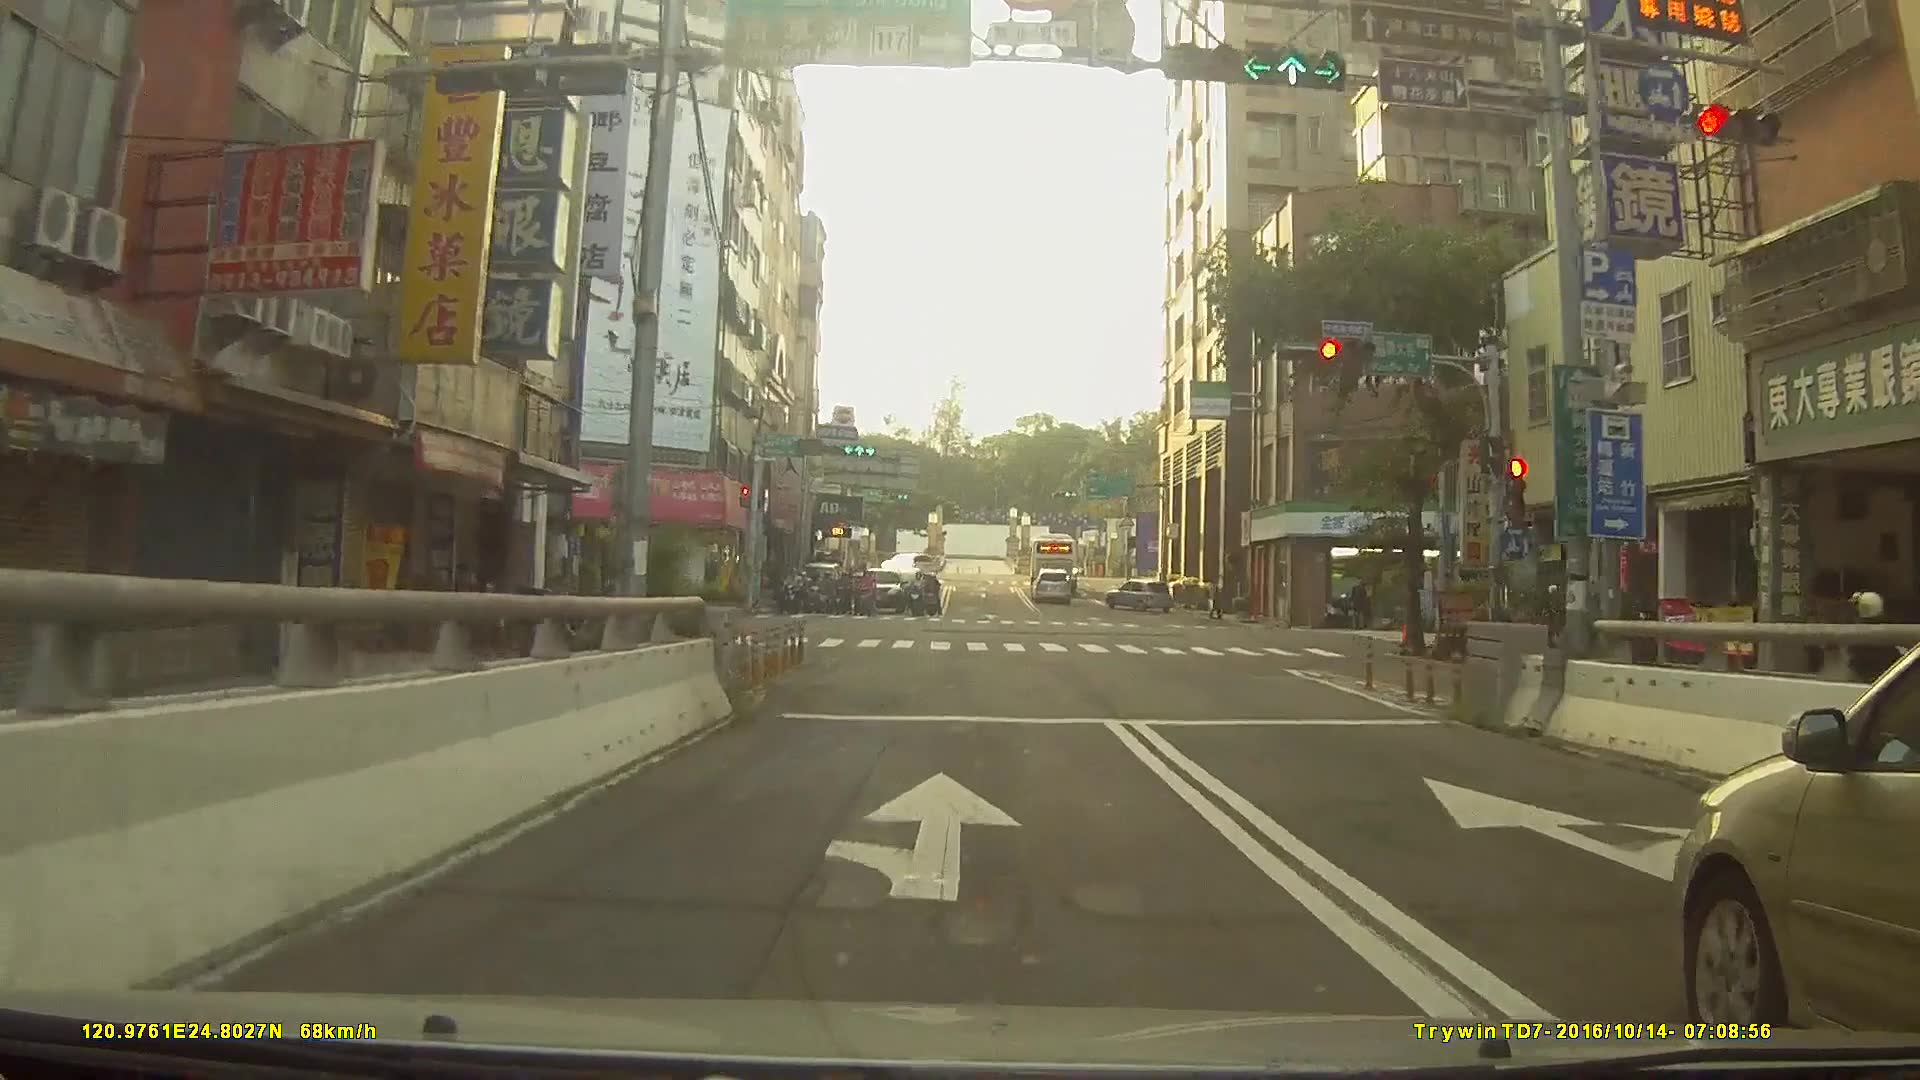pedestrian: (1349, 576, 1373, 631), (1206, 581, 1226, 622)
vehicle: (1675, 636, 1920, 1040), (1026, 533, 1082, 583), (1103, 577, 1175, 613), (856, 567, 907, 615), (875, 549, 934, 577), (1031, 567, 1075, 602)
